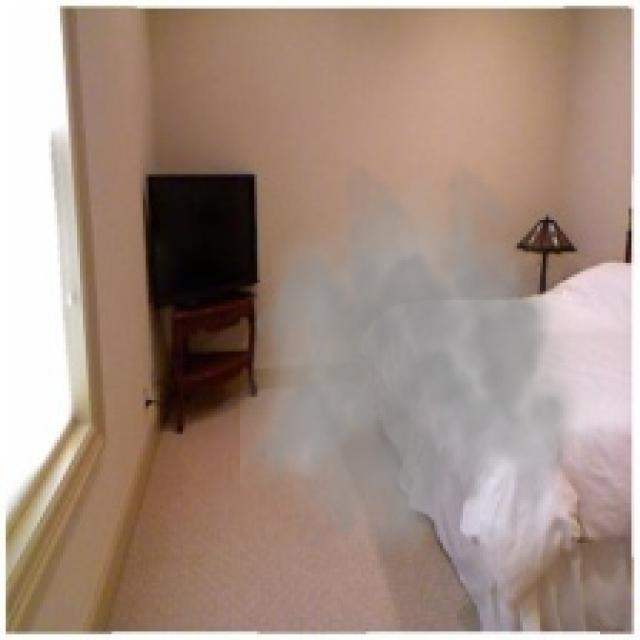smoke: (240, 160, 606, 569)
